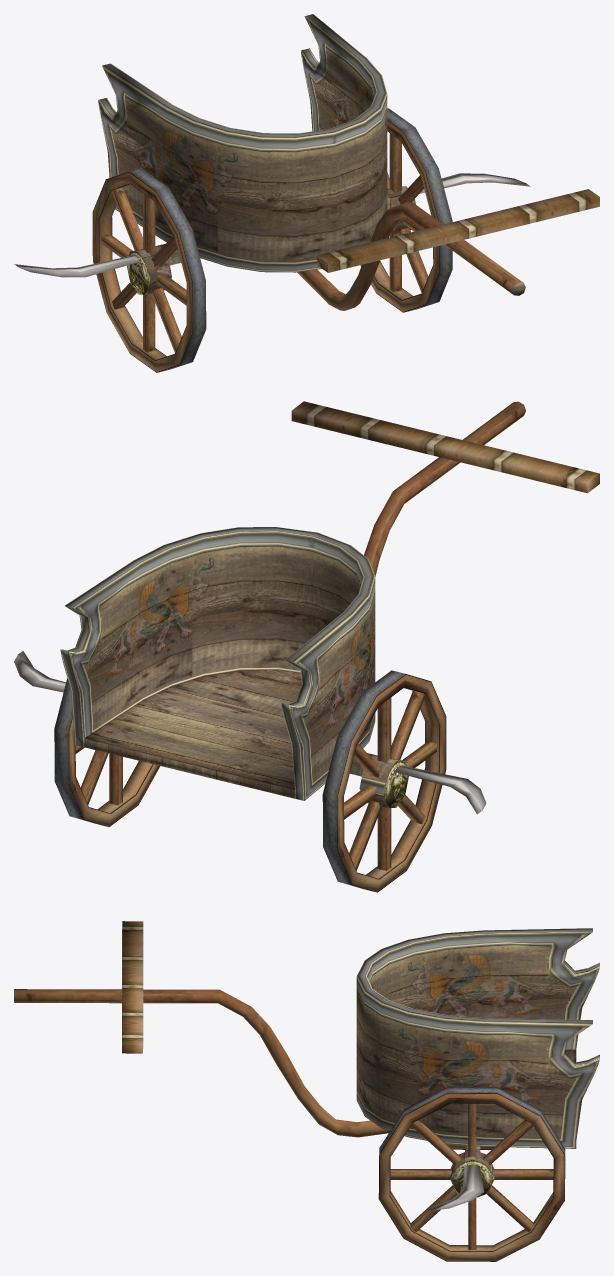
Rendered from pers_chariot_b.glb.
3 views of the same model, one above another, from view 1: azimuth 30°, elevation 25°; view 2: azimuth 150°, elevation 25°; view 3: azimuth 270°, elevation 25° (orthographic). The views are drawn at different scales.
Size of the model in its own units: 8.3 by 4.15 by 9.7.
Materials: 1 (1 with a texture image).
